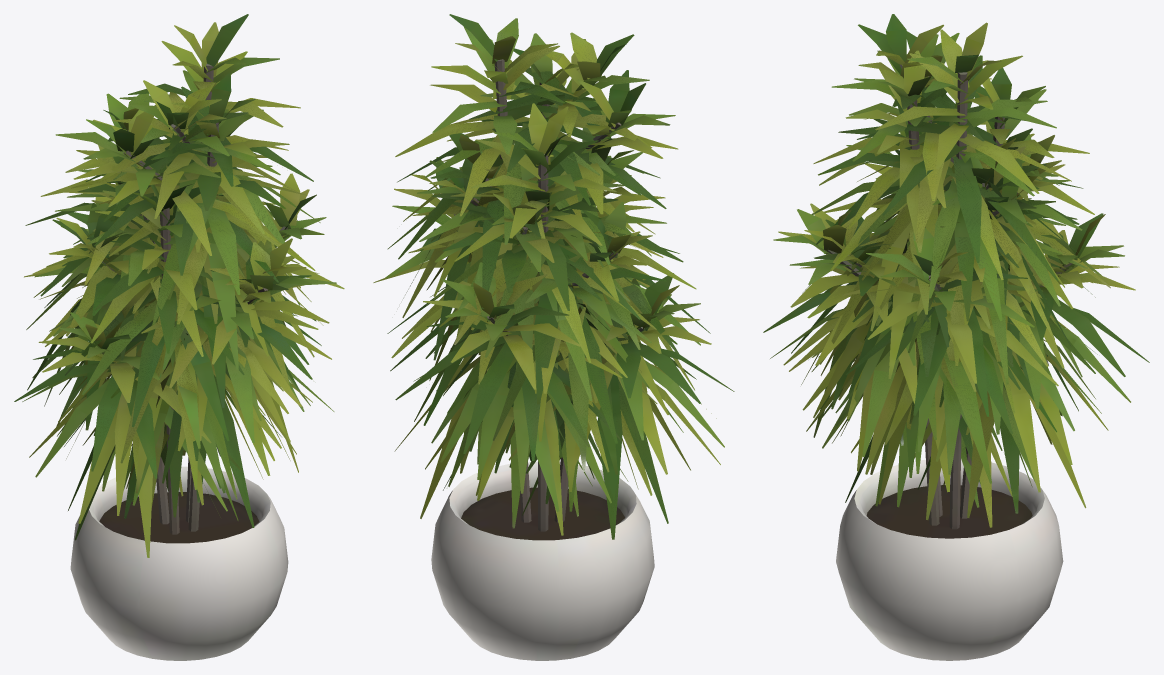
File: dracaena_pot.glb
3 renders of one model, left to right at view 1: azimuth 30°, elevation 25°; view 2: azimuth 150°, elevation 25°; view 3: azimuth 270°, elevation 25°, orthographic. The views are drawn at different scales.
Visible parts, largest first — view 1: dracaena_pot; view 2: dracaena_pot; view 3: dracaena_pot.
Part boxes in pixels (x1=…): dracaena_pot: x1=14, y1=14, x2=344, y2=660; dracaena_pot: x1=373, y1=14, x2=734, y2=660; dracaena_pot: x1=763, y1=14, x2=1149, y2=660.
Size of the model in its own units: 1.32 by 2.43 by 1.36.
Materials: 1 (1 with a texture image).
